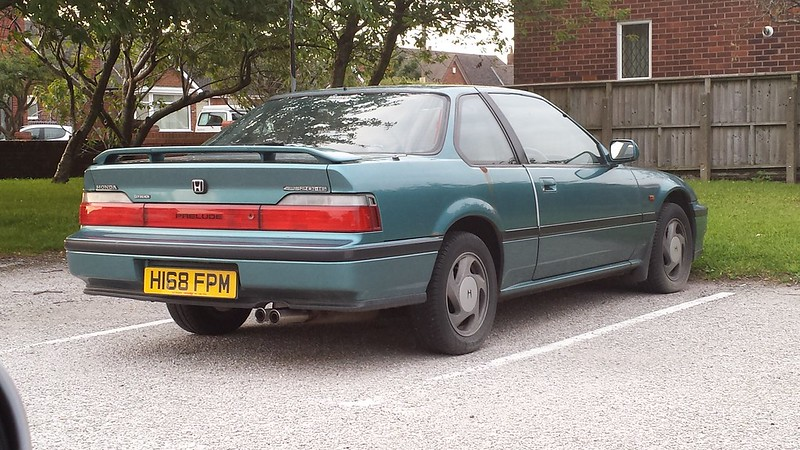number_plate: (144, 258, 245, 304)
